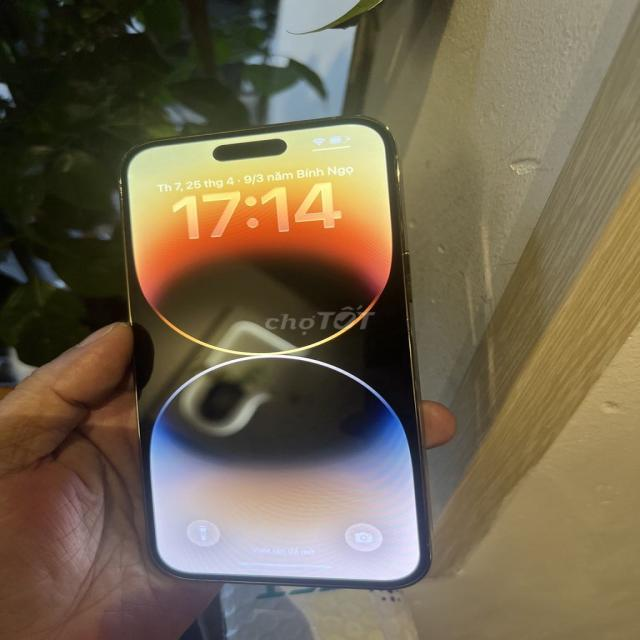gen_14: (108, 110, 446, 602)
